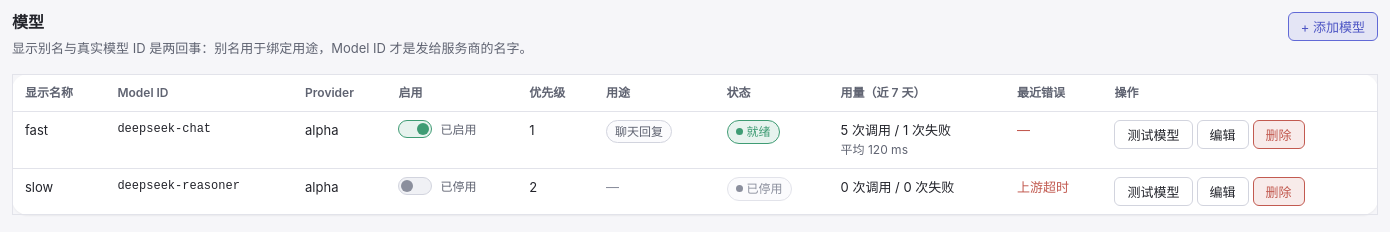
Test: AiModels › writes the enable switch to the server without optimistic guessing
Step 1. Click the switch with test id "toggle-fast" → x=415, y=129, box [398,120,432,138]
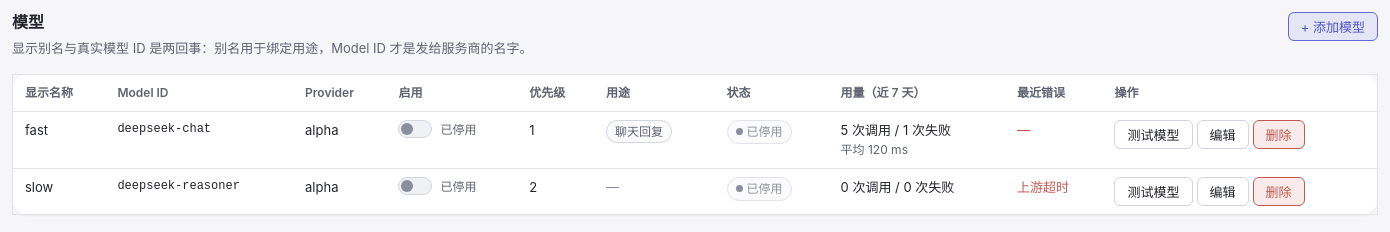
Check: the row with test id "model-row-fast" shows "已停用", box [440,122,476,137]
